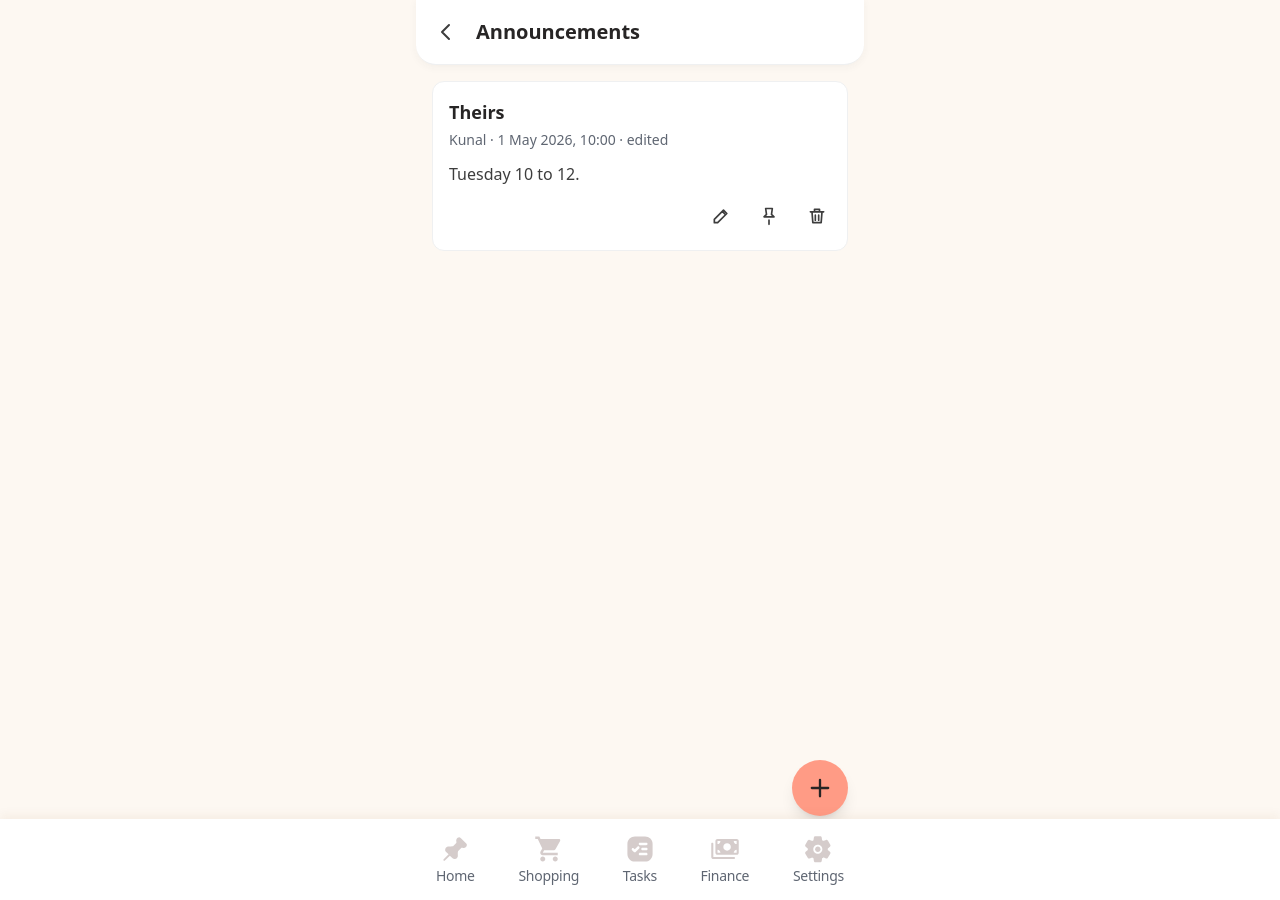
Test case: who can change what (UX; the database enforces it) › an owner or admin can pin, unpin, edit and delete anyone’s
The width and height of the screenshot is (1280, 900).
Expected: the heading "Theirs" is shown, x1=449 y1=98 x2=504 y2=126
Click the button named "Pin". click: (769, 216)
box: x1=747 y1=194 x2=791 y2=238
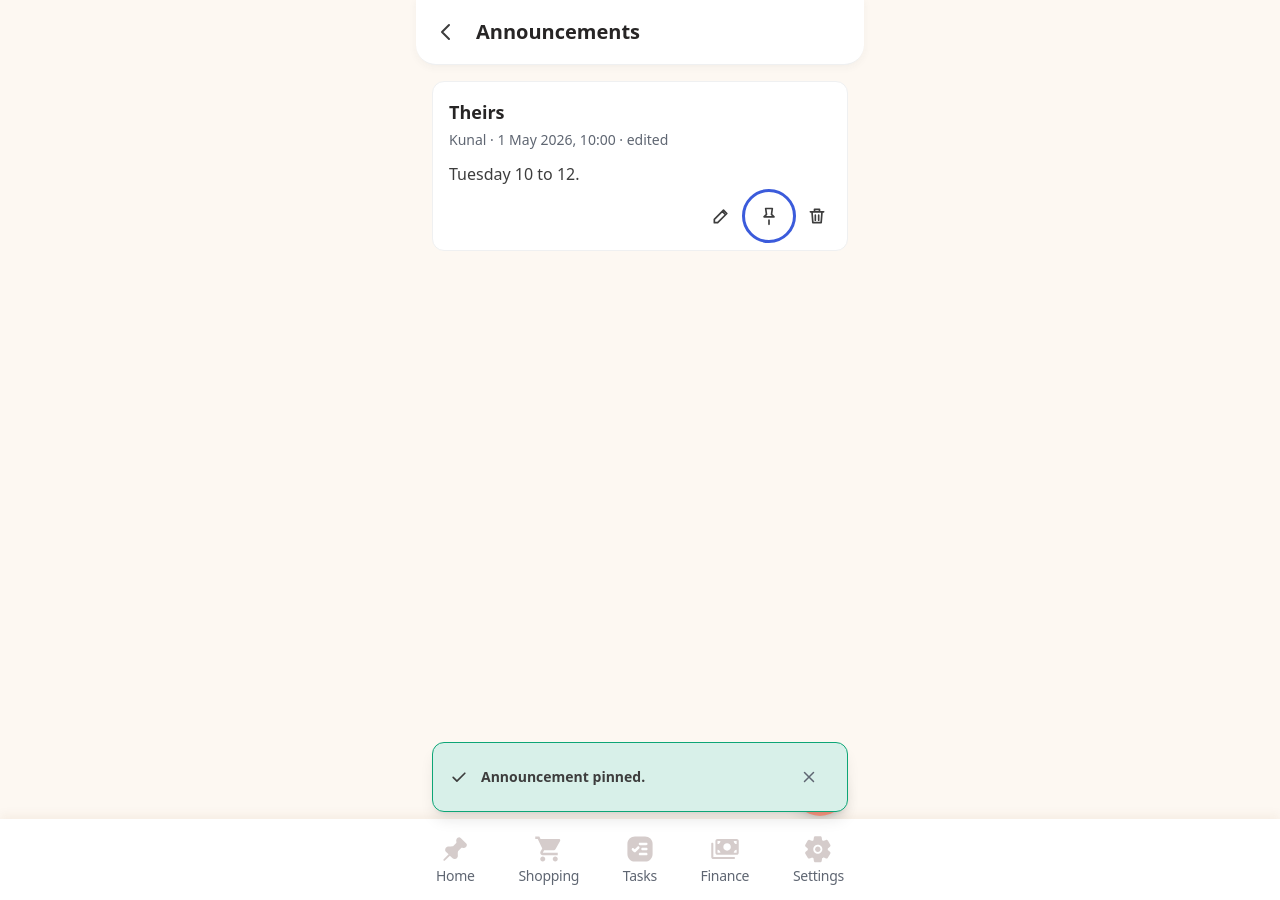
Expected: the text "Announcement pinned." is shown, x1=481 y1=767 x2=645 y2=786
